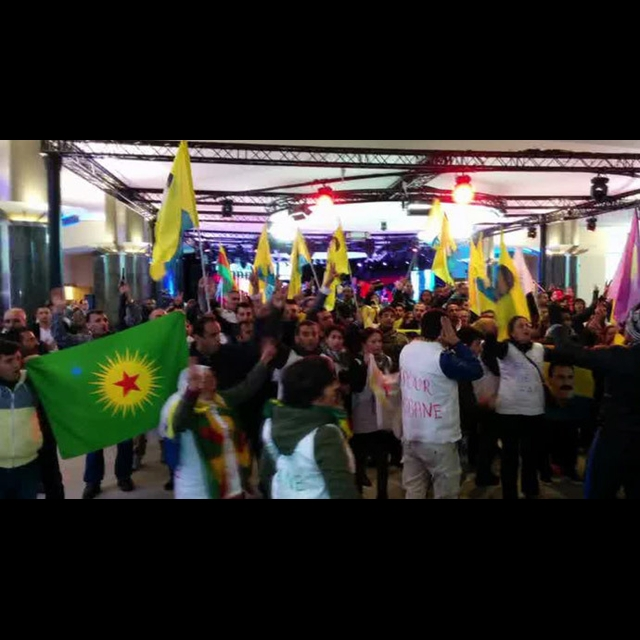KCK: (91, 348, 163, 421)
